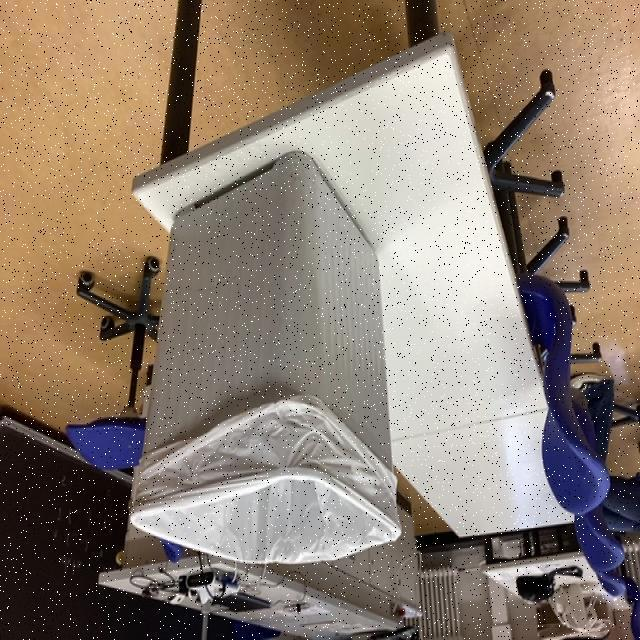garbage container: (104, 134, 412, 600)
